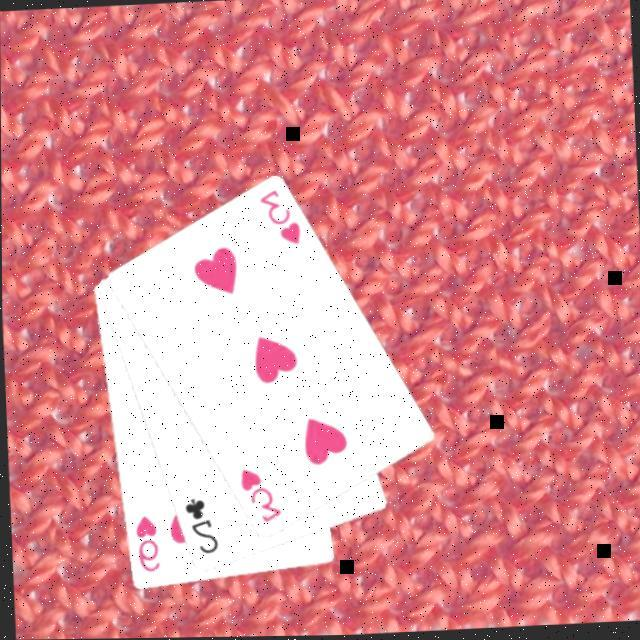2C: (179, 497, 219, 560)
3H: (235, 466, 283, 531), (254, 188, 302, 253)
6H: (129, 515, 161, 578)
